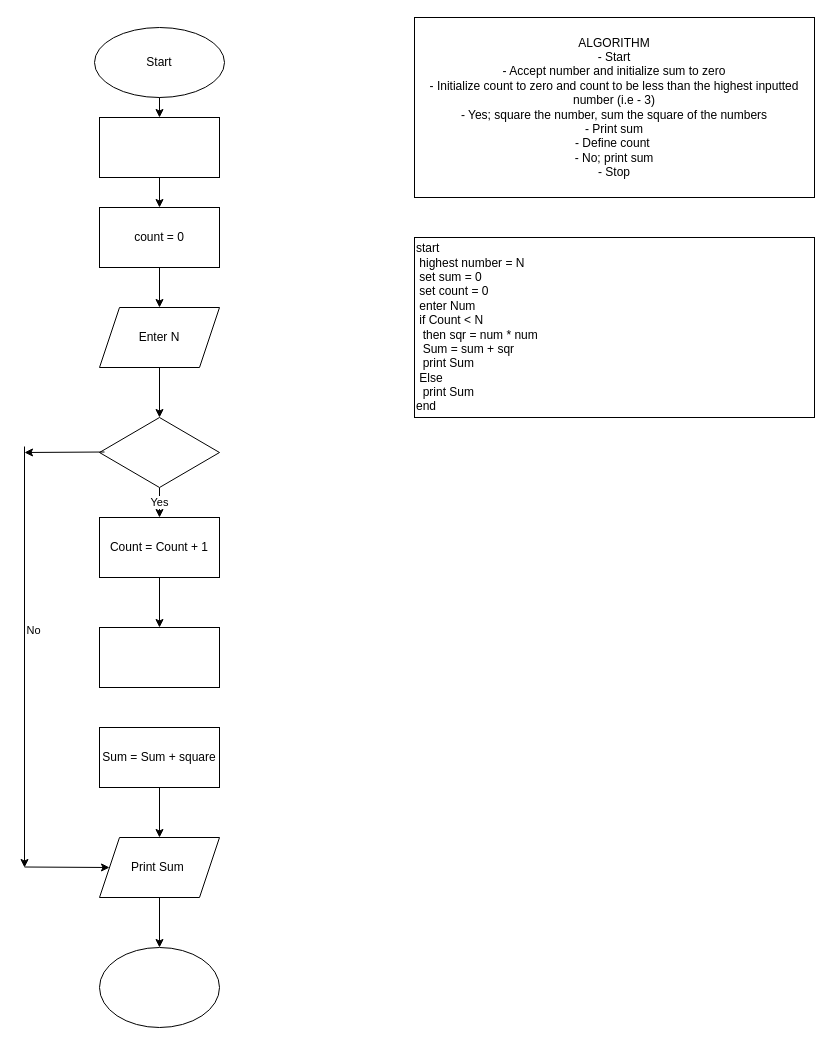
Some shapes in this 832 by 1045 pixel diagram are drawn without their labels. The shapes that lost their labels are listed below. From the top down, each one's centre as x and y in pixels, then its label:
[159,147]: N; Sum = 0
[159,452]: Is count < N
[159,657]: square = N * N
[159,987]: Stop
